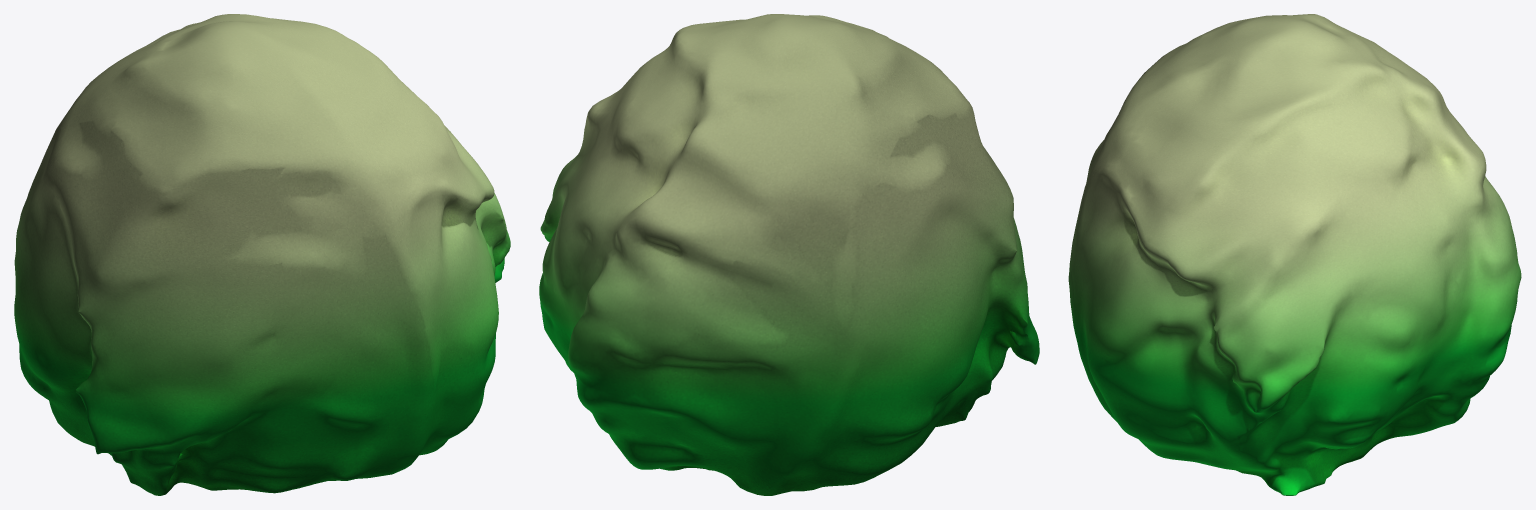
The model's file is cabbage_true_UVs.fbx.
3 views of the same model, side by side, from view 1: azimuth 30°, elevation 25°; view 2: azimuth 150°, elevation 25°; view 3: azimuth 270°, elevation 25° (orthographic). The views are drawn at different scales.
Visible parts, largest first — view 1: cabbage_head.001; view 2: cabbage_head.001; view 3: cabbage_head.001.
Boxes of the visible parts, left/top/right/bottom form: cabbage_head.001: left=14, top=14, right=510, bottom=495; cabbage_head.001: left=539, top=14, right=1039, bottom=495; cabbage_head.001: left=1068, top=14, right=1521, bottom=495.
Size of the model in its own units: 12.86 by 11.63 by 11.98.
1 material, 1 textured.
